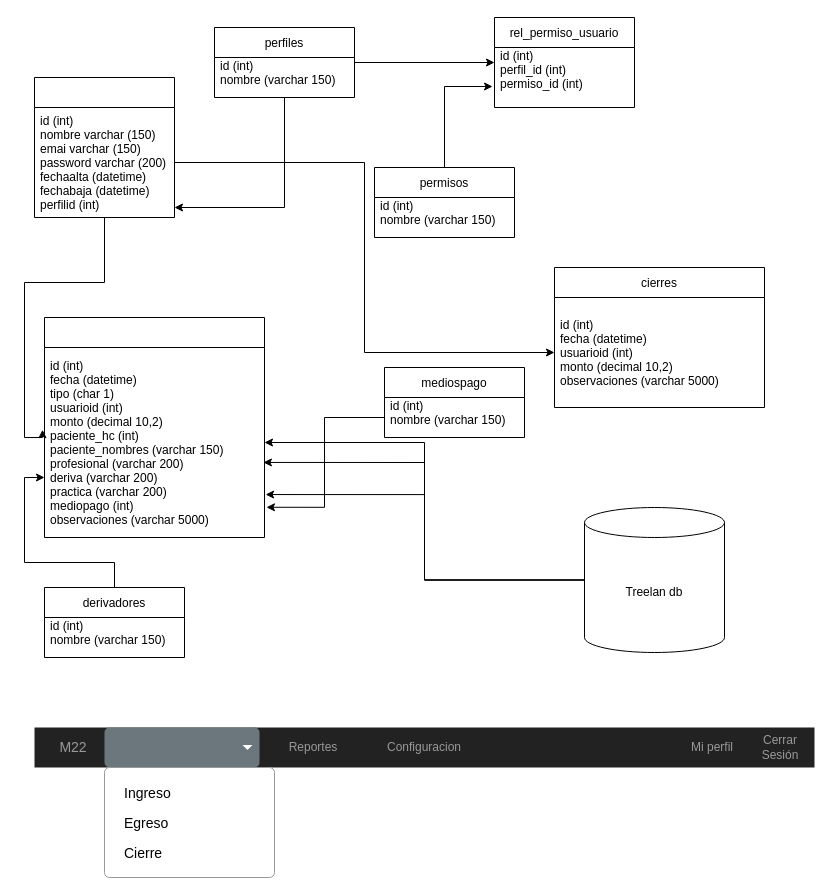
Some shapes in this 832 by 895 pixel diagram are drawn without their labels. Here are the shapes that lost their labels. From the top down, the box of each, then its label:
(34, 76, 174, 218): usuarios
(44, 316, 264, 538): transaciones
(104, 727, 259, 767): Altas
